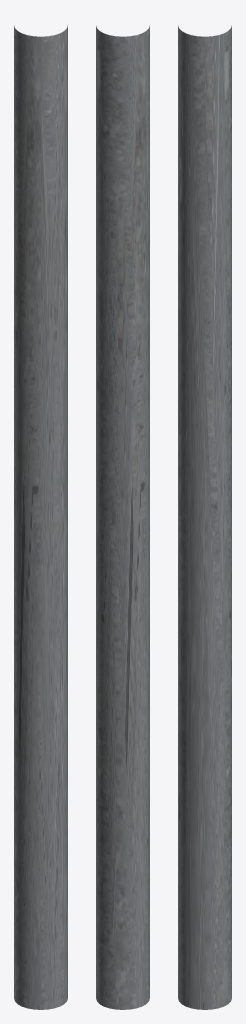
Rendered from modular-pipes-straight-2m.glb.
3 views of the same model, side by side, from view 1: azimuth 90°, elevation 25°; view 2: azimuth 150°, elevation 25°; view 3: azimuth 270°, elevation 25° (orthographic).
Parts seen in each view (by area): view 1: modular_pipes_straight_2m; view 2: modular_pipes_straight_2m; view 3: modular_pipes_straight_2m.
Part boxes in pixels (x1=…): modular_pipes_straight_2m: x1=14, y1=25, x2=67, y2=1009; modular_pipes_straight_2m: x1=96, y1=25, x2=149, y2=1009; modular_pipes_straight_2m: x1=178, y1=25, x2=231, y2=1009.
Size of the model in its own units: 0.1001 by 2 by 0.1001.
Materials: 1 (1 with a texture image).
